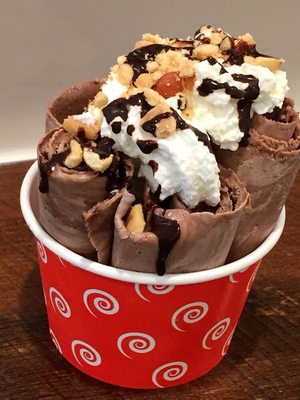sushi: (17, 11, 298, 386)
